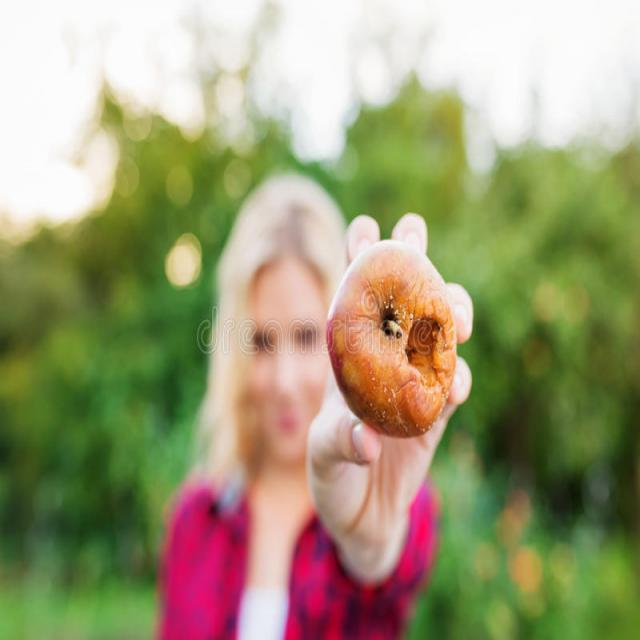Rotten: (331, 260, 458, 435)
